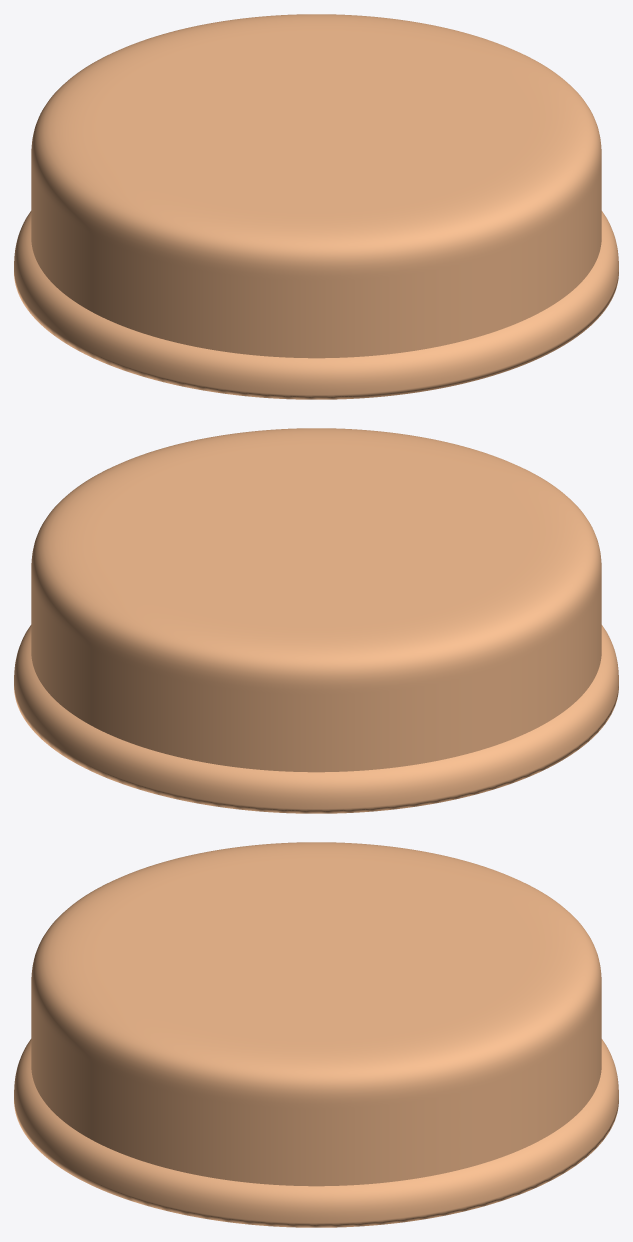
Rendered from Boton.fbx.
The picture shows the model from 3 angles, top to bottom: view 1: azimuth 30°, elevation 25°; view 2: azimuth 150°, elevation 25°; view 3: azimuth 270°, elevation 25°; orthographic projection.
Visible parts, largest first — view 1: PM3D_Cylinder3D1; view 2: PM3D_Cylinder3D1; view 3: PM3D_Cylinder3D1.
Part boxes in pixels (<box>): PM3D_Cylinder3D1: <box>14,14,618,399</box>; PM3D_Cylinder3D1: <box>14,428,618,813</box>; PM3D_Cylinder3D1: <box>14,842,618,1227</box>.
Bounding box in the file's own units: 2.11 × 0.5719 × 2.11.
